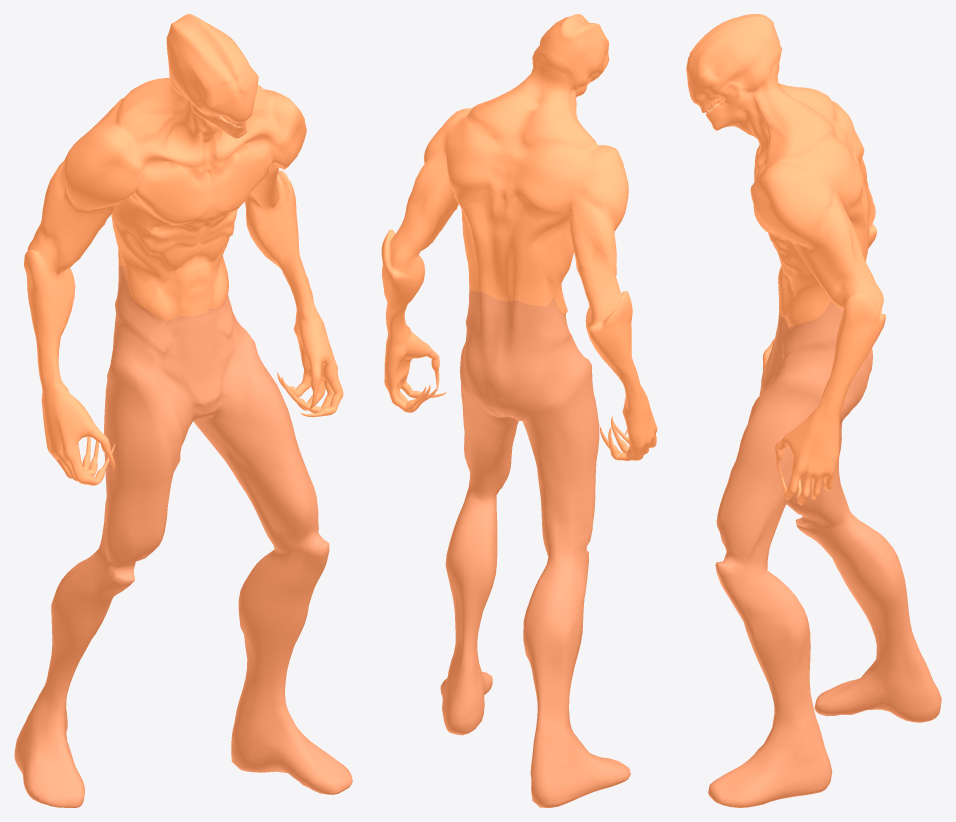
File: biomech-mutant.glb
3 renders of one model, left to right at view 1: azimuth 30°, elevation 25°; view 2: azimuth 150°, elevation 25°; view 3: azimuth 270°, elevation 25°, orthographic. The views are drawn at different scales.
Parts seen in each view (by area): view 1: Object_3, Object_2; view 2: Object_2, Object_3; view 3: Object_3, Object_2.
Boxes of the visible parts, x1,y1,x2,y2 form: Object_3: (14,265,352,807); Object_2: (23,14,343,485); Object_2: (381,14,657,460); Object_3: (440,288,630,807); Object_3: (708,300,941,807); Object_2: (686,14,885,505).
Bounding box in the file's own units: 67.17 × 177 × 55.78.
